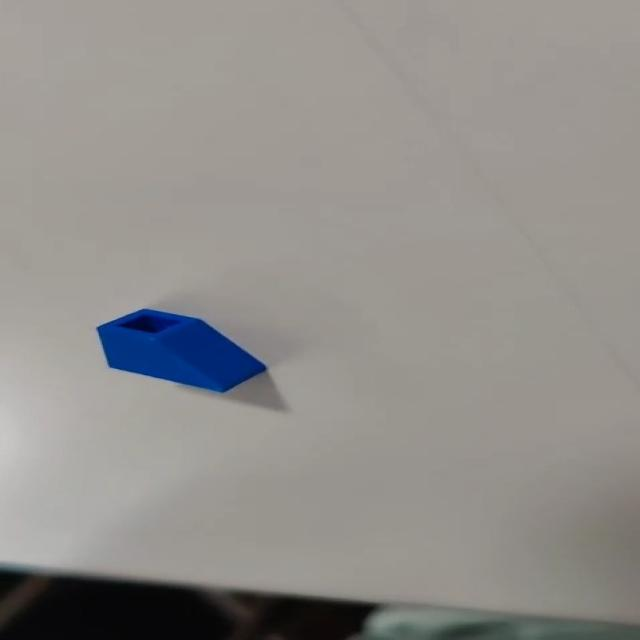X1x2x1: (98, 305, 267, 394)
